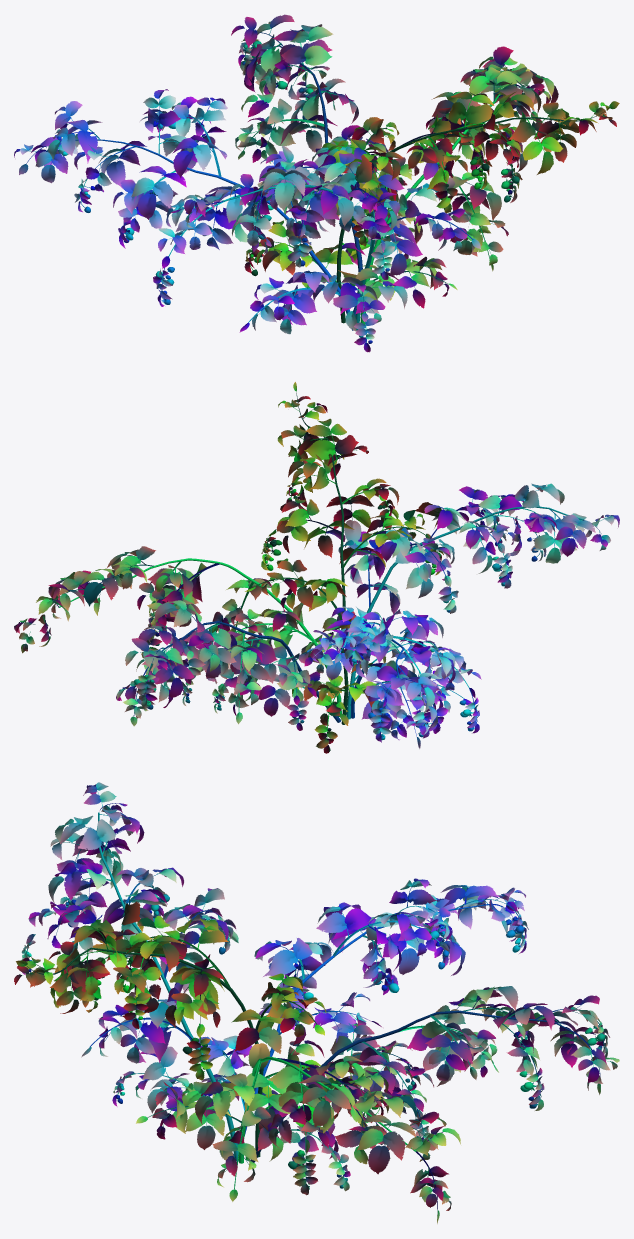
Rendered from Raspberry_wf0oefeja_Raw_wf0oefeja_VarD_LOD0.fbx.
3 views of the same model, one above another, from view 1: azimuth 30°, elevation 25°; view 2: azimuth 150°, elevation 25°; view 3: azimuth 270°, elevation 25° (orthographic). The views are drawn at different scales.
Visible parts, largest first — view 1: _gb3y_VarD_High; view 2: _gb3y_VarD_High; view 3: _gb3y_VarD_High.
Boxes of the visible parts, box(x1,y1,x2,y2) form: _gb3y_VarD_High: box(14, 14, 619, 352); _gb3y_VarD_High: box(14, 382, 619, 753); _gb3y_VarD_High: box(14, 782, 619, 1223).
Bounding box in the file's own units: 137 × 66.15 × 127.
